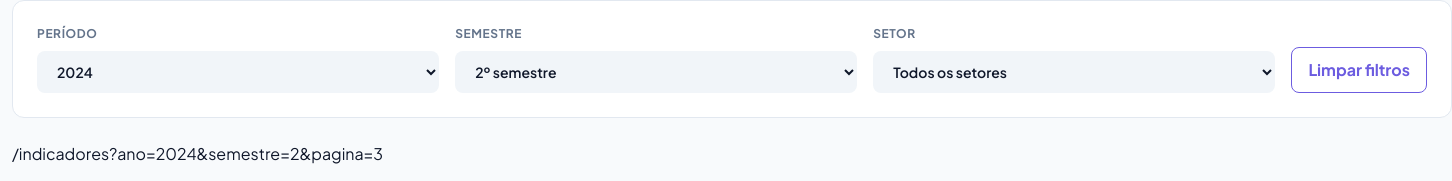
Test: muda o setor na URL preservando o caminho e outros parâmetros
Select "Hospedagem" in the dropdown labelled "Setor": (1074, 72) top-left (873, 51), bottom-right (1275, 93)
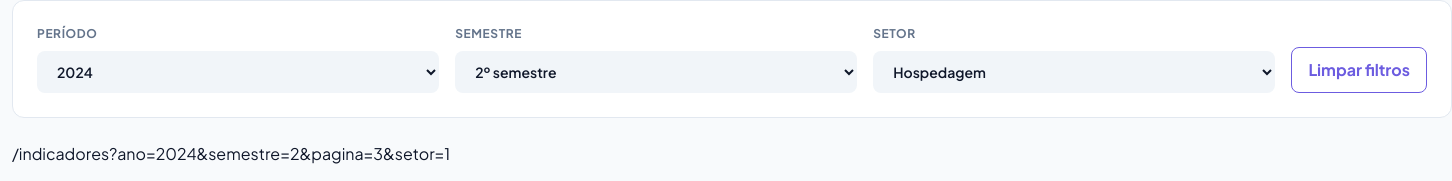
Result: the text named "URL" reads "/indicadores?ano=2024&semestre=2&pagina=3&setor=1" at top-left (12, 143), bottom-right (450, 164)
